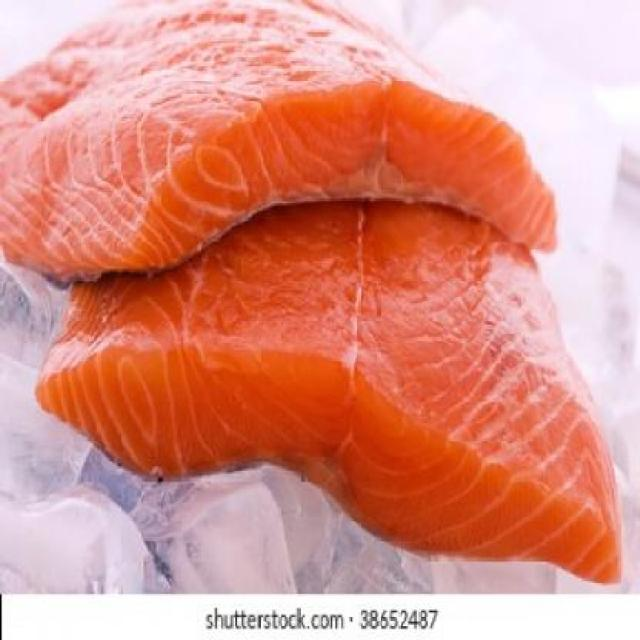salmon: (37, 100, 640, 595), (3, 3, 572, 305)
